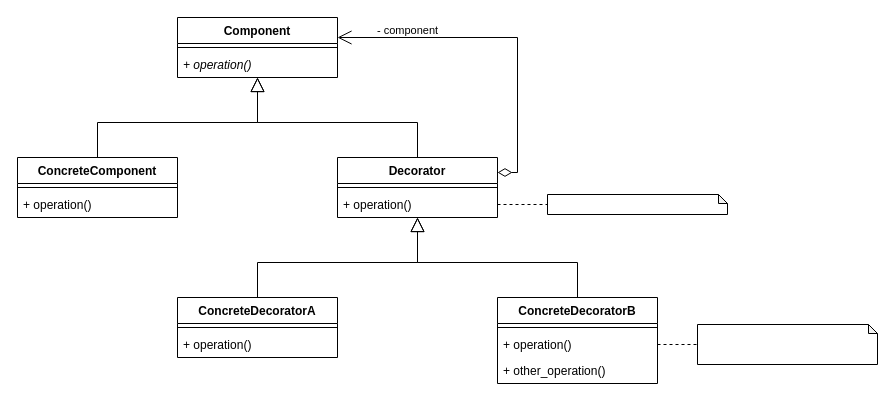
This 895x404 diagram has some shape labels left out. Here are the shapes that lost their labels. From the top down, the centre of each, then its label:
At (637,204): "self.component.operation()".
At (787,344): "super().operation() self.other_operation()".
